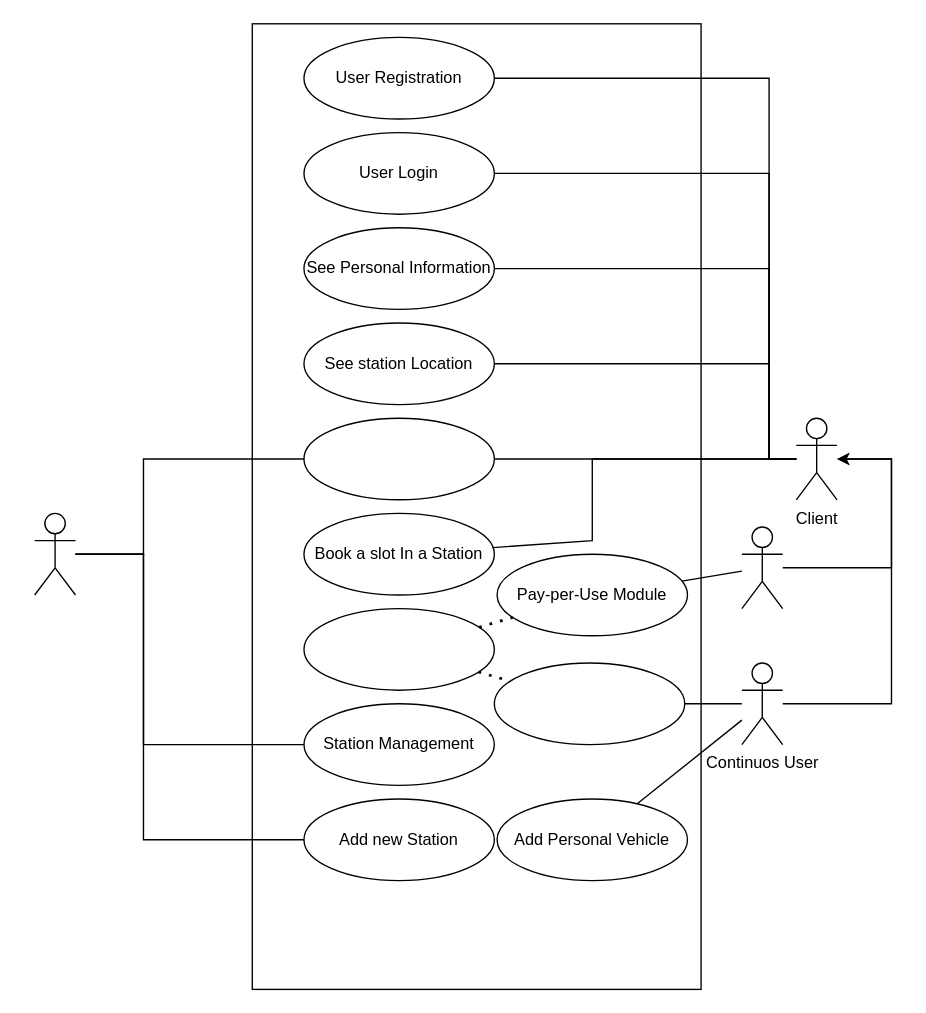
Some shapes in this 926 by 1013 pixel diagram are drawn without their labels. Each missing label, with the centre of its shape:
"Intermitent User" belongs at (x=762, y=567).
"Operator" belongs at (x=54, y=553).
"See station Information" belongs at (x=398, y=458).
"Subscription Module" belongs at (x=589, y=703).
"Use a method of Payment" belongs at (x=398, y=648).
